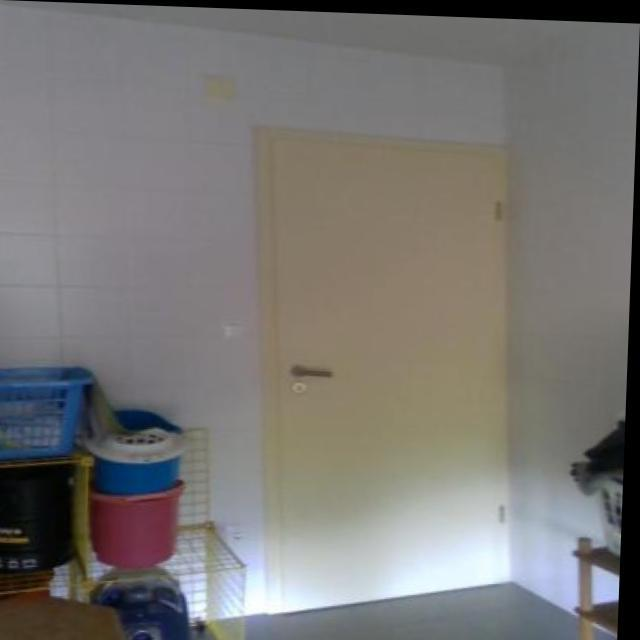door_handle: (290, 358, 346, 382)
